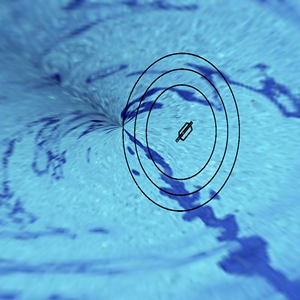circle: (116, 41, 243, 214)
submarine: (173, 112, 196, 151)
